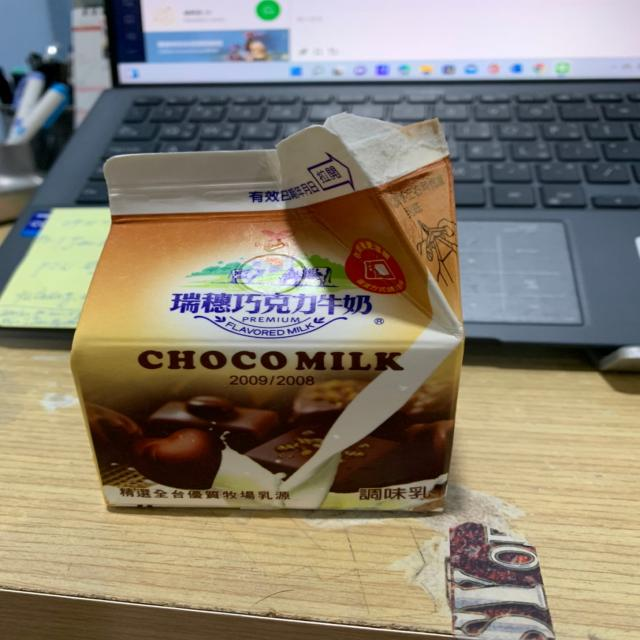non_white_jug: (64, 132, 468, 502)
